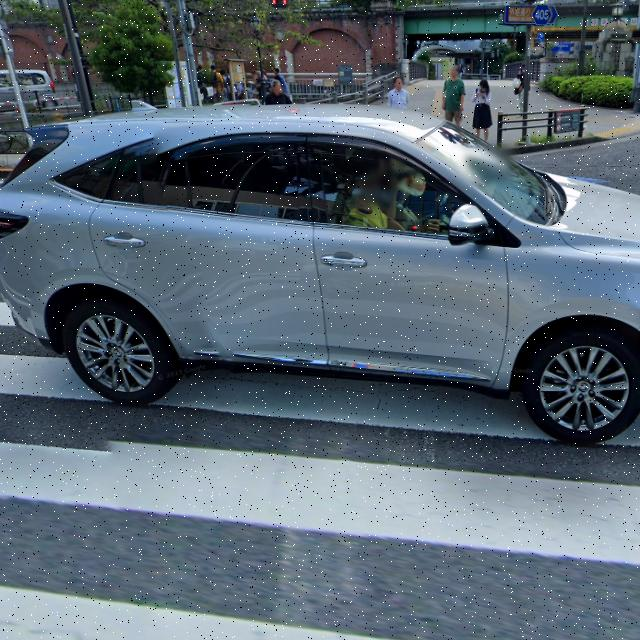traffic-light: (268, 0, 294, 11)
